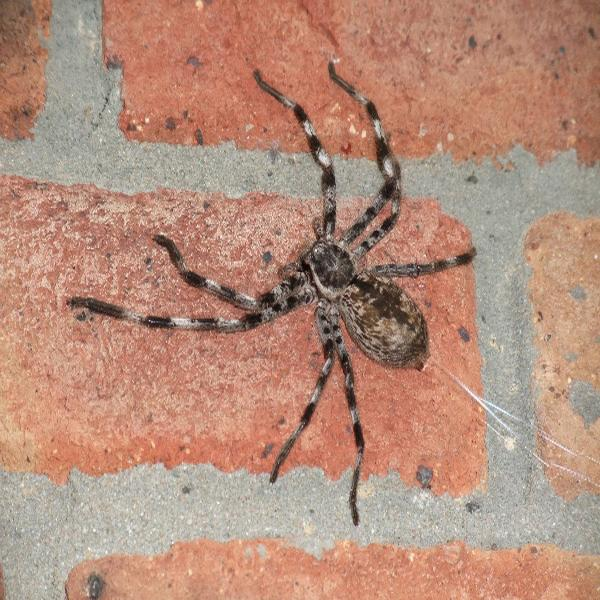Huntsman Spider: (80, 70, 475, 508)
